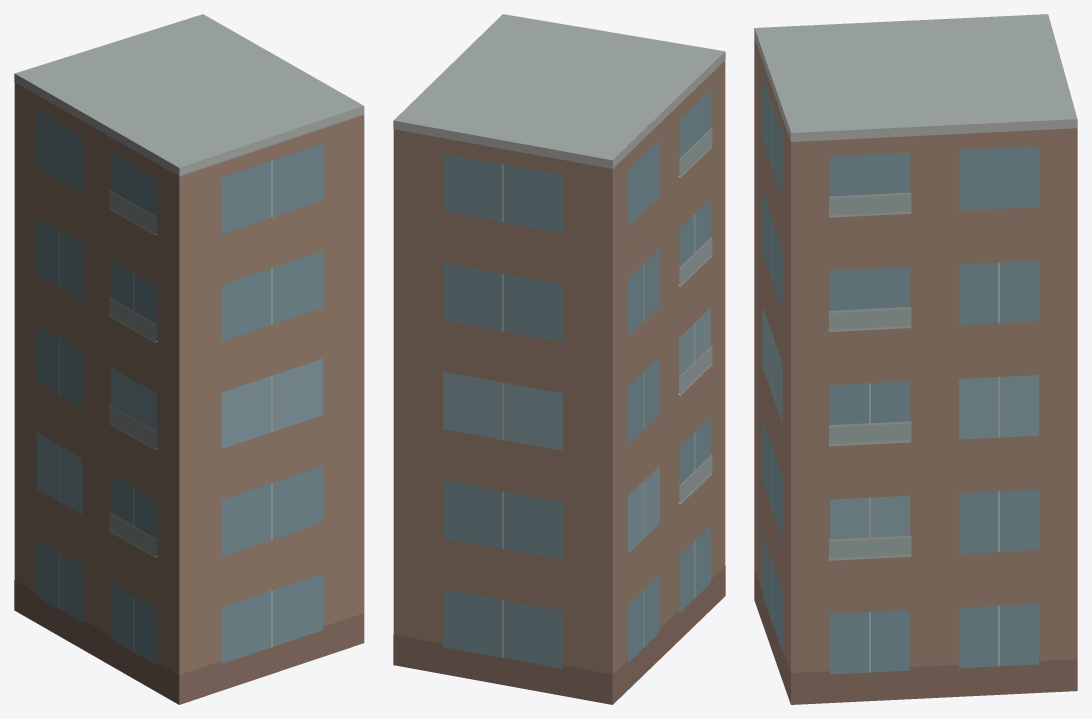
Rendered from survey-upis-32461492.glb.
3 renders of one model, left to right at view 1: azimuth 30°, elevation 25°; view 2: azimuth 150°, elevation 25°; view 3: azimuth 270°, elevation 25°, orthographic. The views are drawn at different scales.
Parts seen in each view (by area): view 1: survey-upis-32461492.tmp; view 2: survey-upis-32461492.tmp; view 3: survey-upis-32461492.tmp.
Part boxes in pixels (<box>): survey-upis-32461492.tmp: <box>14,14,364,704</box>; survey-upis-32461492.tmp: <box>393,14,725,704</box>; survey-upis-32461492.tmp: <box>754,14,1077,704</box>.
Size of the model in its own units: 6.88 by 15.4 by 7.9.
